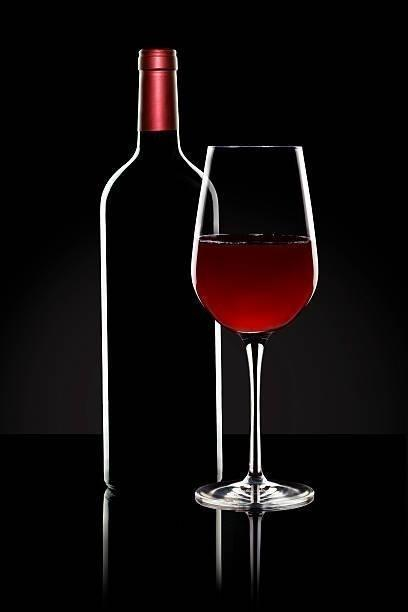bottle-glass: (94, 43, 218, 503)
glass-wine: (189, 143, 320, 522)
